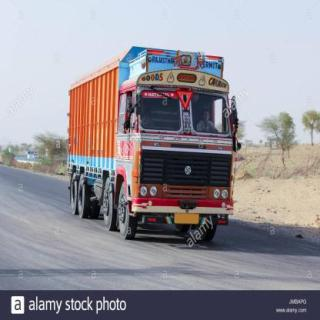Normal_vehicle: (63, 43, 240, 249)
